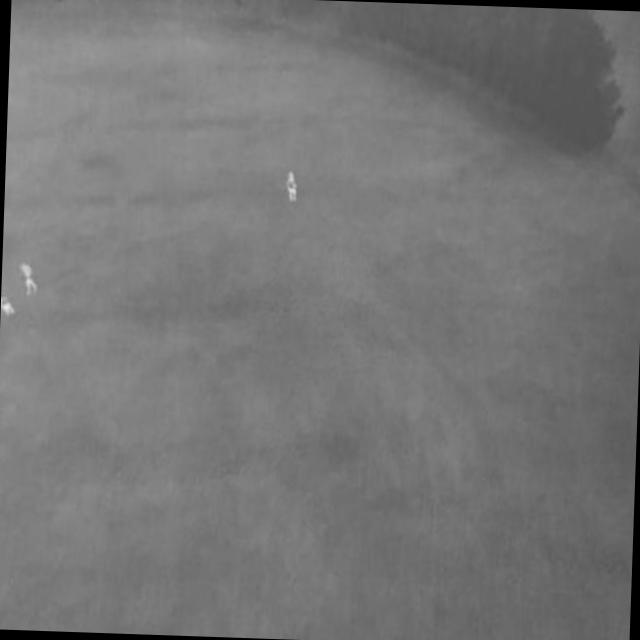person: (18, 264, 39, 298), (286, 171, 299, 204), (2, 296, 17, 319)
